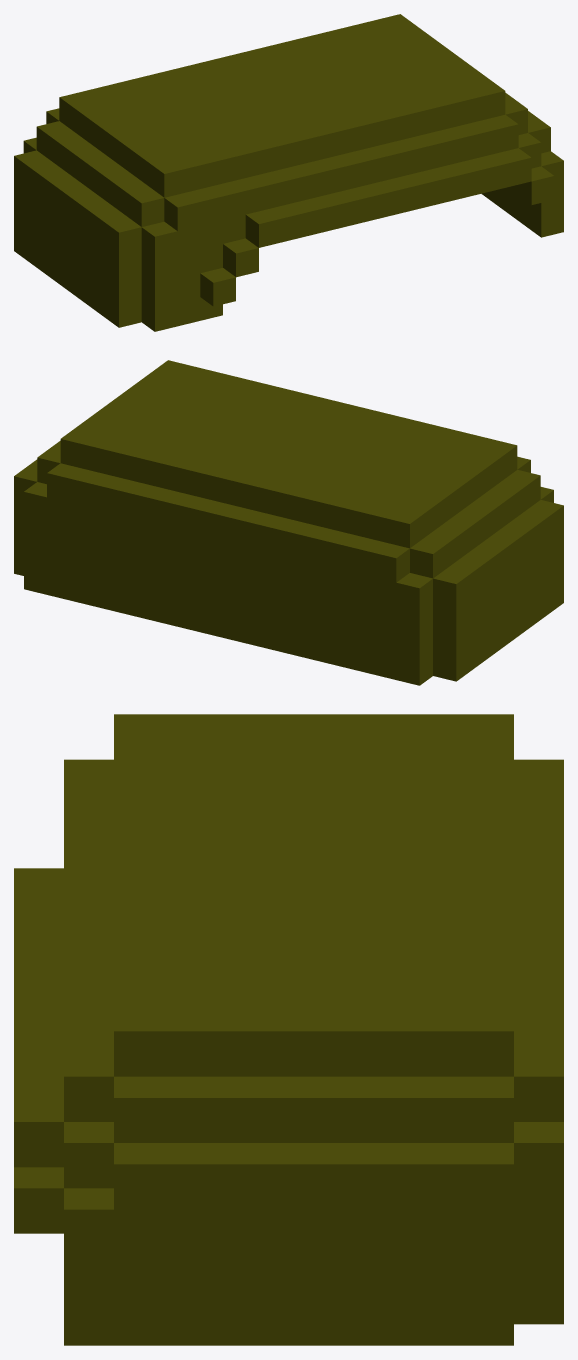
Rendered from accessories_head_helmet.glb.
The picture shows the model from 3 angles, top to bottom: view 1: azimuth 30°, elevation 25°; view 2: azimuth 150°, elevation 25°; view 3: azimuth 270°, elevation 25°; orthographic projection. The views are drawn at different scales.
Visible parts, largest first — view 1: model_0; view 2: model_0; view 3: model_0.
Boxes of the visible parts, <box> form: model_0: <box>14,14,563,331</box>; model_0: <box>14,360,563,685</box>; model_0: <box>14,714,563,1345</box>.
Bounding box in the file's own units: 19 × 6 × 11.
